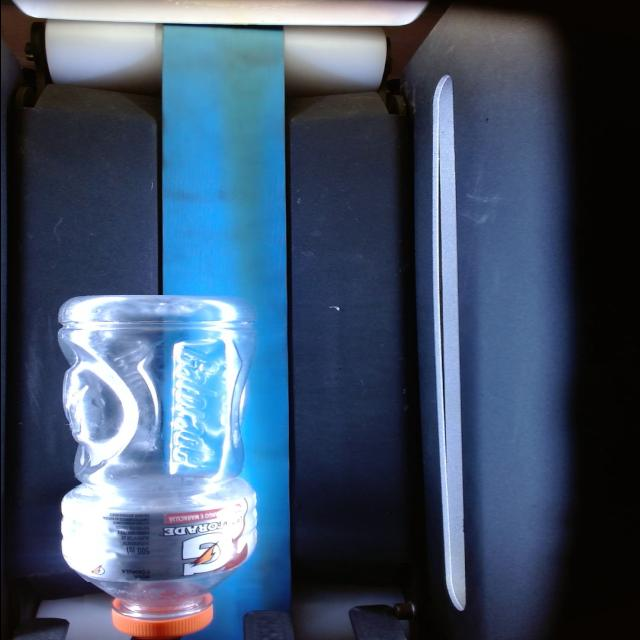bottom: (58, 296, 255, 487)
label: (60, 479, 255, 582)
neck: (83, 570, 231, 638)
